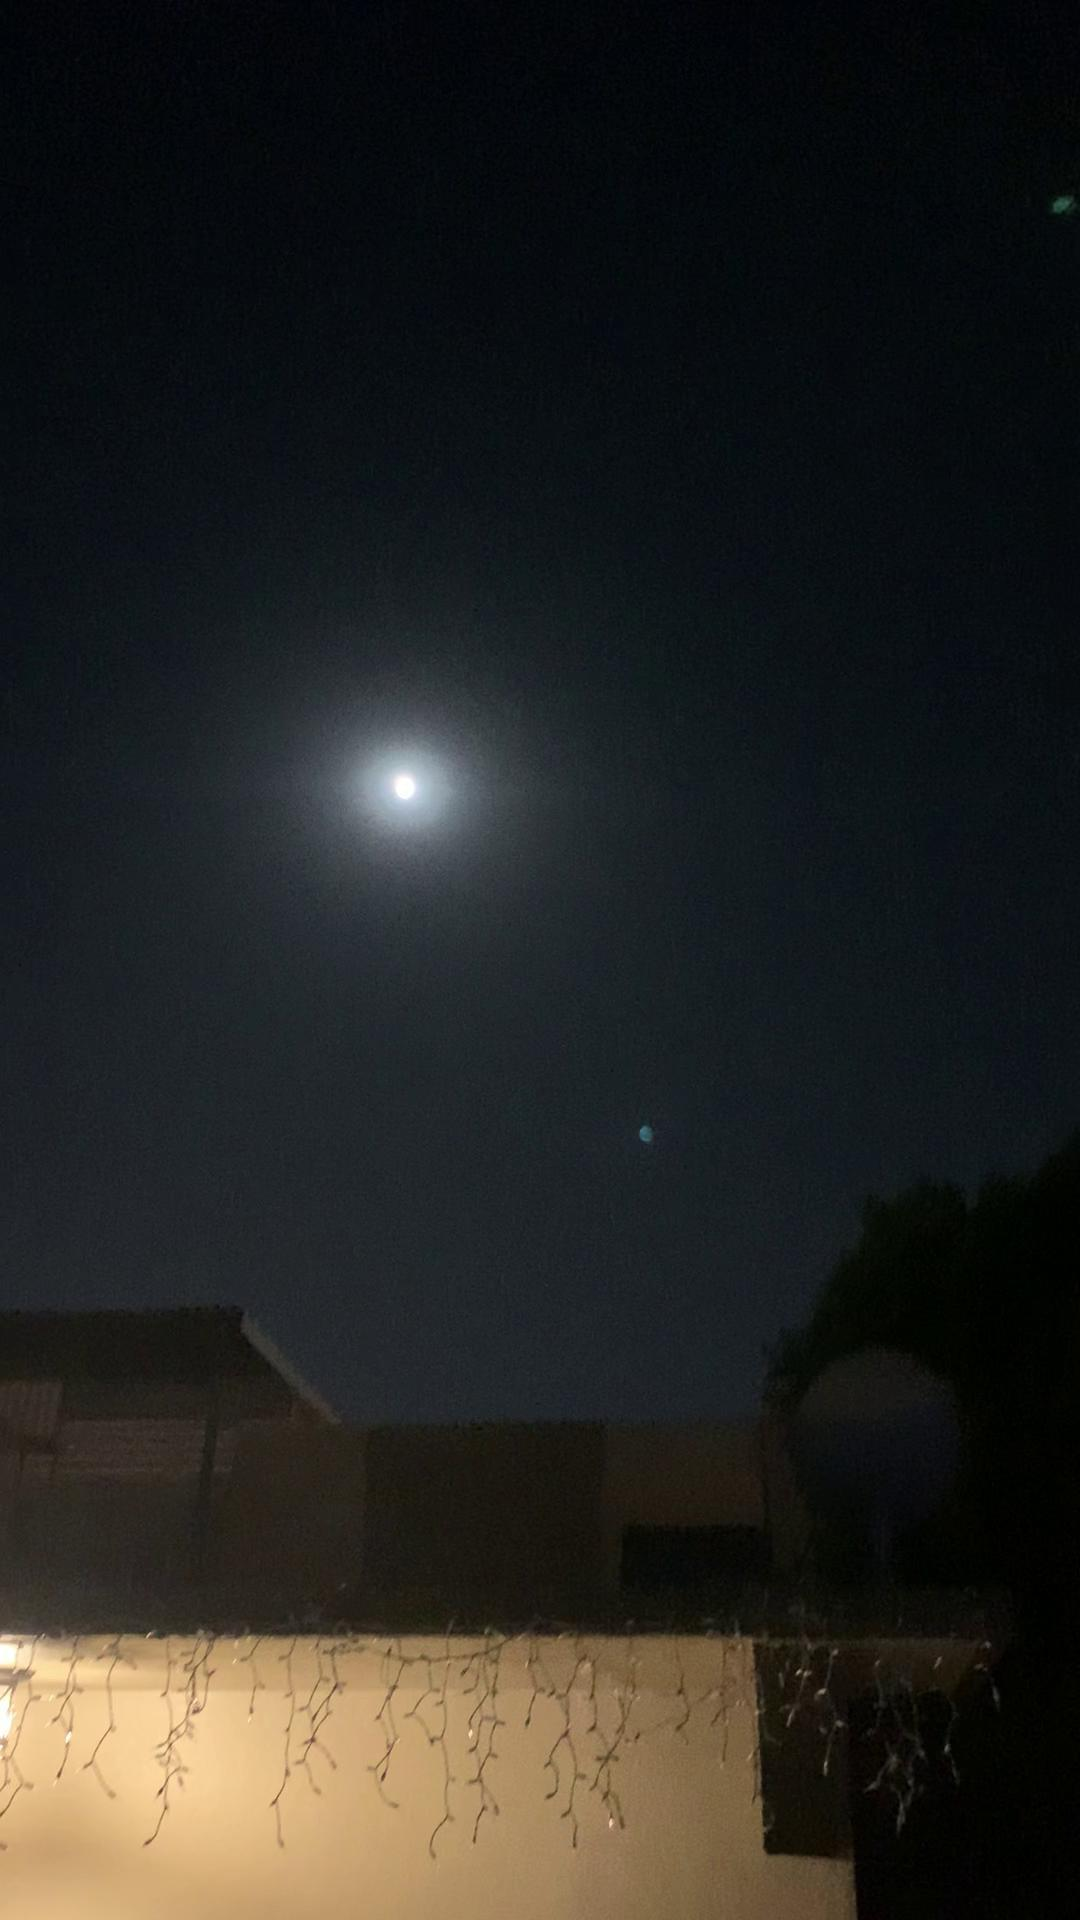moon: (364, 736, 451, 815)
